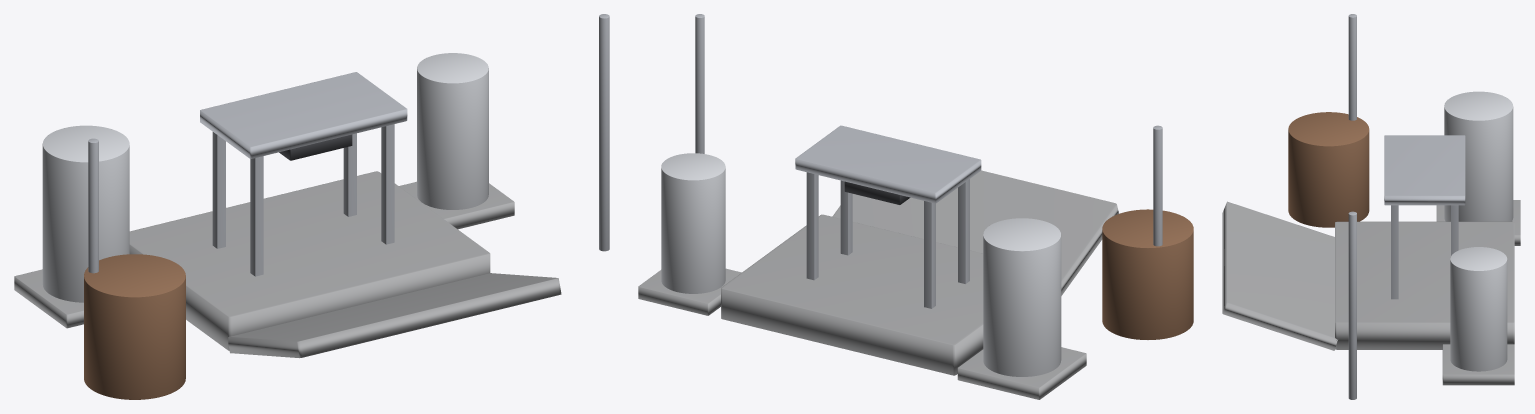
File: teststand.glb
3 views of the same model, side by side, from view 1: azimuth 30°, elevation 25°; view 2: azimuth 150°, elevation 25°; view 3: azimuth 270°, elevation 25° (orthographic). The views are drawn at different scales.
Parts seen in each view (by area): view 1: pad, water_tank, tank_lox, flame_trench, tank_rp1, crosshead, light_mast_1, tank_lox_base, tank_rp1_base, post_00, post_10, post_01 (+3 smaller); view 2: pad, tank_lox, flame_trench, water_tank, tank_rp1, crosshead, tank_lox_base, tank_rp1_base, light_mast_1, post_11, post_01, post_00 (+3 smaller); view 3: pad, flame_trench, water_tank, tank_lox, tank_rp1, crosshead, light_mast_1, tank_rp1_base, light_mast_0, post_10, tank_lox_base, post_11.
Boxes of the visible parts, <box> form: pad: <box>129,171,490,350</box>; water_tank: <box>84,254,185,399</box>; tank_lox: <box>42,125,129,302</box>; flame_trench: <box>228,273,561,358</box>; tank_rp1: <box>417,53,488,209</box>; crosshead: <box>200,72,407,158</box>; light_mast_1: <box>599,14,609,251</box>; tank_lox_base: <box>14,269,83,328</box>; tank_rp1_base: <box>399,181,514,229</box>; post_00: <box>250,156,263,276</box>; post_10: <box>381,124,394,244</box>; post_01: <box>212,132,225,248</box>; pad: <box>721,214,983,375</box>; tank_lox: <box>983,218,1061,376</box>; flame_trench: <box>832,170,1118,295</box>; water_tank: <box>1102,209,1193,339</box>; tank_rp1: <box>661,153,725,293</box>; crosshead: <box>795,125,981,203</box>; tank_lox_base: <box>957,347,1086,399</box>; tank_rp1_base: <box>638,268,741,315</box>; light_mast_1: <box>695,14,704,153</box>; post_11: <box>806,172,818,280</box>; post_01: <box>924,201,935,308</box>; post_00: <box>958,179,969,283</box>; pad: <box>1335,221,1514,349</box>; flame_trench: <box>1222,201,1337,350</box>; water_tank: <box>1288,112,1369,227</box>; tank_lox: <box>1444,91,1513,221</box>; tank_rp1: <box>1450,247,1507,371</box>; crosshead: <box>1384,135,1465,205</box>; light_mast_1: <box>1348,211,1356,399</box>; tank_rp1_base: <box>1442,344,1514,385</box>; light_mast_0: <box>1348,14,1356,120</box>; post_10: <box>1391,205,1398,299</box>; tank_lox_base: <box>1436,200,1520,245</box>; post_11: <box>1451,205,1458,255</box>.
Bounding box in the file's own units: 16.29 × 6.84 × 9.95.
